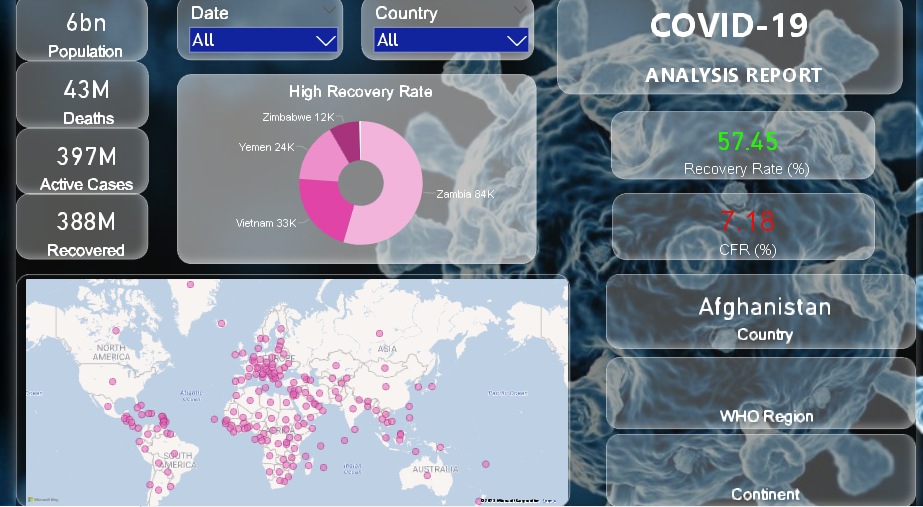

The dashboard page shown, as its layout file describes it:
{"tool":"powerbi","page":{"name":"DASHBOARD","canvas":[1900,1080],"ordinal":1},"visuals":[{"type":"card","fields":{"Values":["Sum(full_grouped.Active)"]},"box":[0,280,280,140],"z":0},{"type":"card","fields":{"Values":["Min(worldometer_data.Continent)"]},"box":[1245.1,925.9,654.1,154.8],"z":1000},{"type":"card","fields":{"Values":["Min(worldometer_data.Country/Region)"]},"box":[1245.1,587.8,654.1,158],"z":2000},{"type":"card","fields":{"Values":["Sum(full_grouped.Recovered)"]},"box":[0,418.2,278.8,139.4],"z":3000},{"type":"card","fields":{"Values":["Sum(worldometer_data.Population)"]},"box":[0,0,278.1,139],"z":4000},{"type":"card","fields":{"Values":["Sum(full_grouped.Deaths)"]},"box":[0,140,280,140],"z":5000},{"type":"slicer","fields":{"Values":["worldometer_data.Country/Region"]},"box":[730.5,0,363.9,137.8],"z":6000},{"type":"card","fields":{"Values":["Min(worldometer_data.WHO Region)"]},"box":[1245.1,764.7,654.1,151.7],"z":7000},{"type":"slicer","fields":{"Values":["day_wise.Date"]},"box":[339.1,0,350.1,137.8],"z":8000},{"type":"map","fields":{"Category":["full_grouped.Country/Region"]},"box":[0,587.8,1169.2,493],"z":9000},{"type":"donutChart","title":"High Recovery Rate","fields":{"Y":["Sum(full_grouped.Recovered)"],"Category":["worldometer_data.Country/Region"]},"box":[339.1,168.2,758.1,399.7],"z":10000},{"type":"card","fields":{"Values":["Max(day_wise.Recovered / 100 Cases)"]},"box":[1257.1,245.4,556.9,143.4],"z":11000},{"type":"card","fields":{"Values":["Max(day_wise.Deaths / 100 Cases)"]},"box":[1259.8,419,554.1,140.6],"z":12000},{"type":"textbox","box":[1144.1,0,727.8,209.5],"z":13000}]}

Visuals, with their boxes on the page's 1900x1080 design canvas (x1, y1, x2, y2). These are canvas units, not pixel positions in the 923x507 screenshot, which may show the page scaled, cropped or inside an application window:
card - Sum(full_grouped.Active): rect(0, 280, 280, 420)
card - Min(worldometer_data.Continent): rect(1245, 926, 1899, 1081)
card - Min(worldometer_data.Country/Region): rect(1245, 588, 1899, 746)
card - Sum(full_grouped.Recovered): rect(0, 418, 279, 558)
card - Sum(worldometer_data.Population): rect(0, 0, 278, 139)
card - Sum(full_grouped.Deaths): rect(0, 140, 280, 280)
slicer - worldometer_data.Country/Region: rect(730, 0, 1094, 138)
card - Min(worldometer_data.WHO Region): rect(1245, 765, 1899, 916)
slicer - day_wise.Date: rect(339, 0, 689, 138)
map - full_grouped.Country/Region: rect(0, 588, 1169, 1081)
"High Recovery Rate" donutChart: rect(339, 168, 1097, 568)
card - Max(day_wise.Recovered / 100 Cases): rect(1257, 245, 1814, 389)
card - Max(day_wise.Deaths / 100 Cases): rect(1260, 419, 1814, 560)
textbox: rect(1144, 0, 1872, 210)
